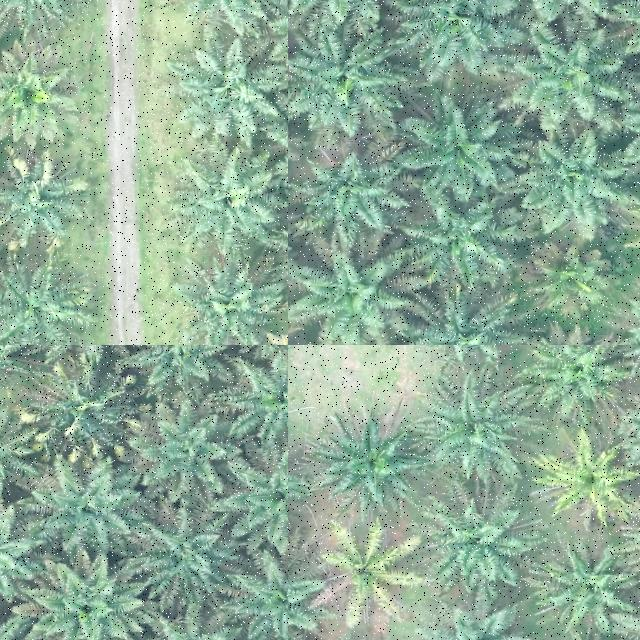Ganoderma: (321, 533, 402, 602), (551, 450, 621, 512)
